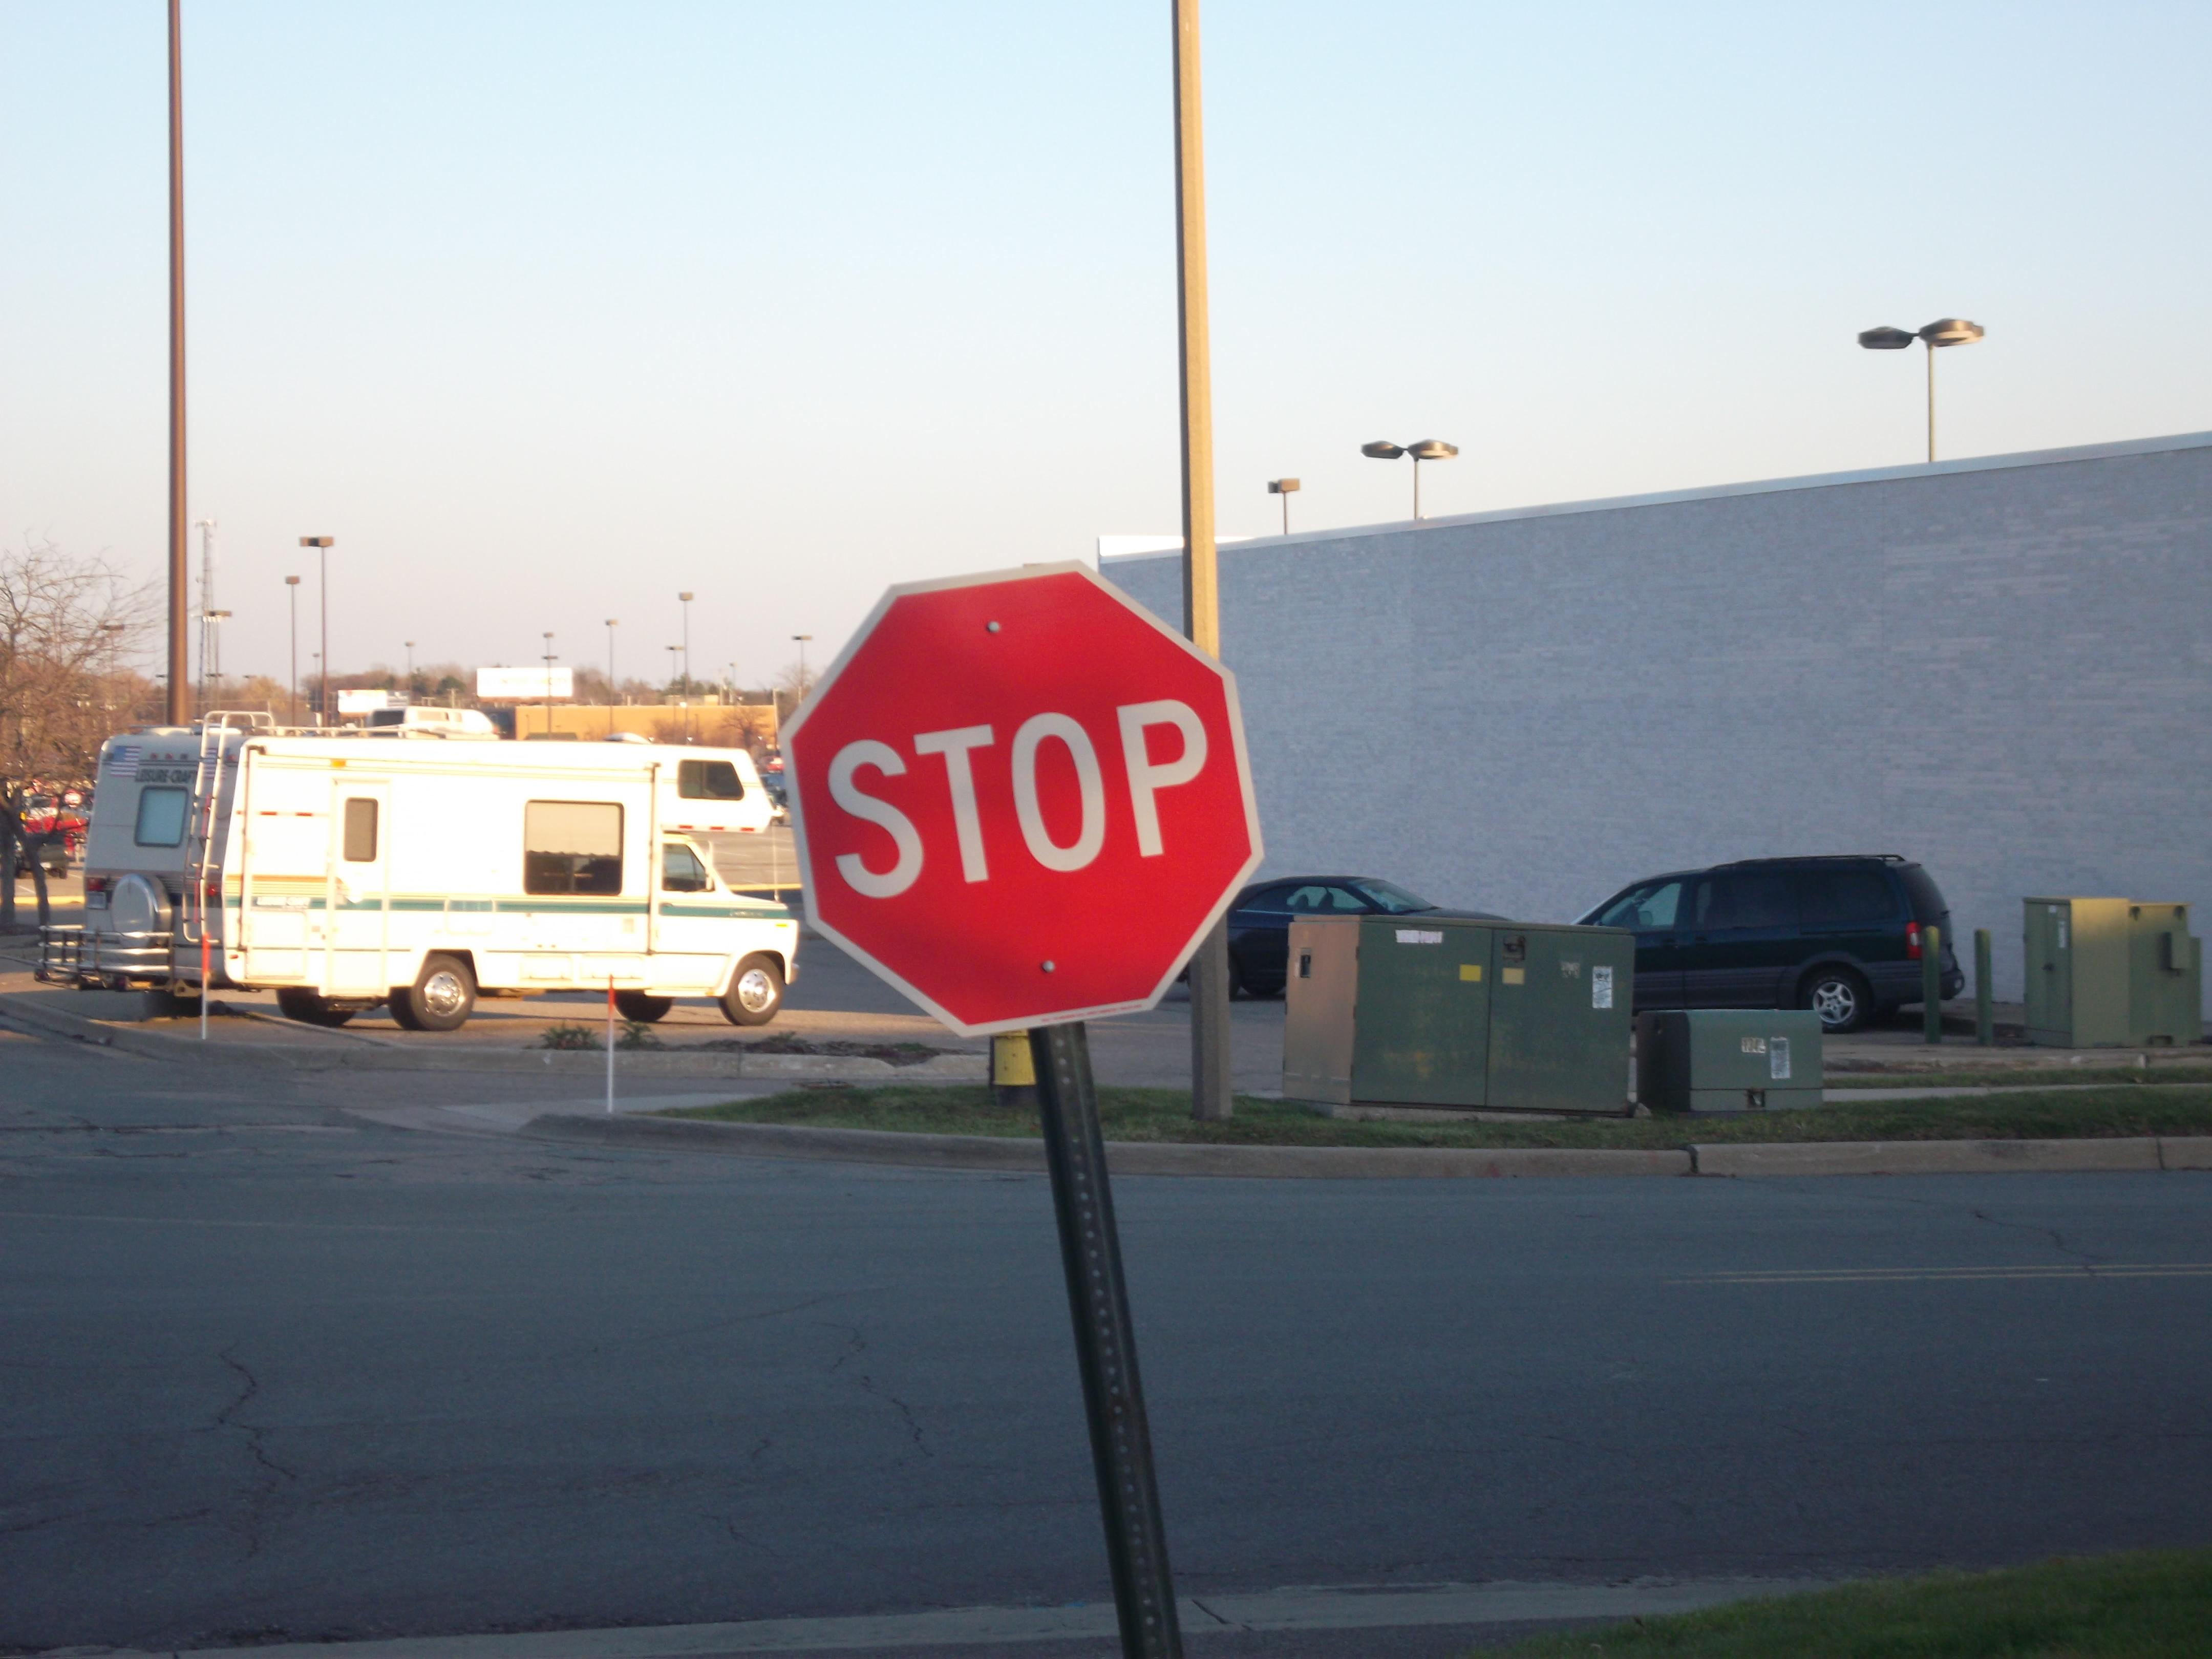stop: (770, 559, 1277, 1047)
